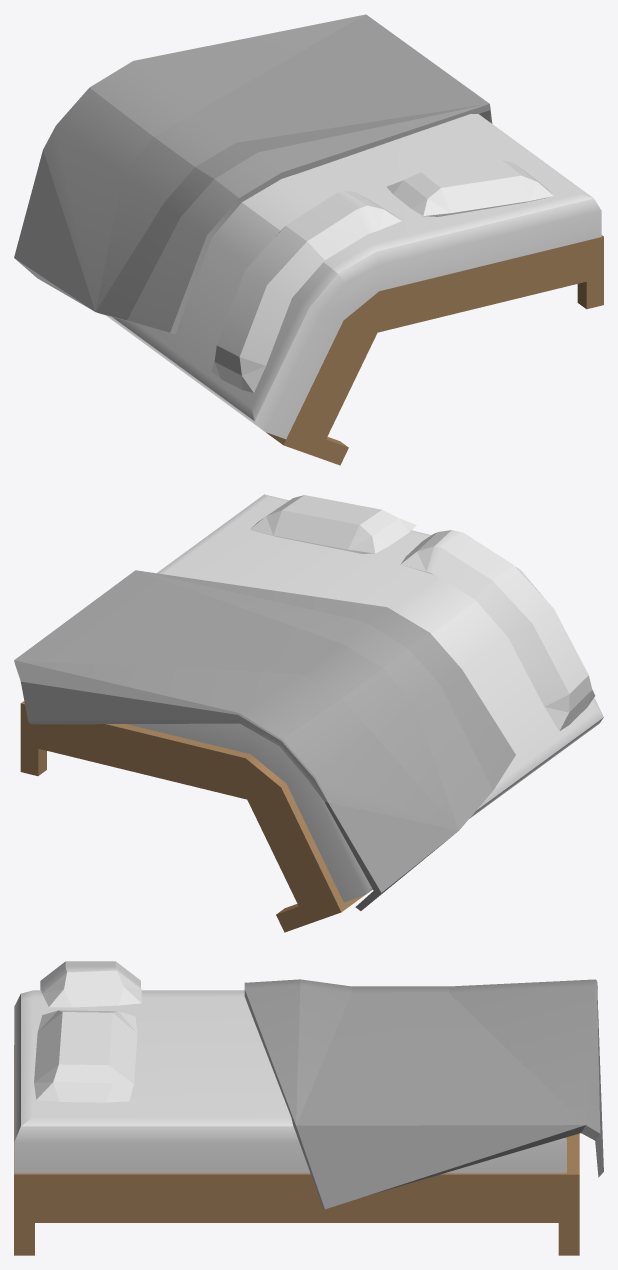
The model's file is bed.fbx.
3 views of the same model, one above another, from view 1: azimuth 30°, elevation 25°; view 2: azimuth 150°, elevation 25°; view 3: azimuth 270°, elevation 25° (orthographic). The views are drawn at different scales.
Parts seen in each view (by area): view 1: polySurface18; view 2: polySurface18; view 3: polySurface18.
Part boxes in pixels (x1,y1,x2,y2): polySurface18: (14, 14, 603, 465); polySurface18: (14, 494, 603, 932); polySurface18: (14, 961, 603, 1255).
Size of the model in its own units: 207 by 122 by 236.
